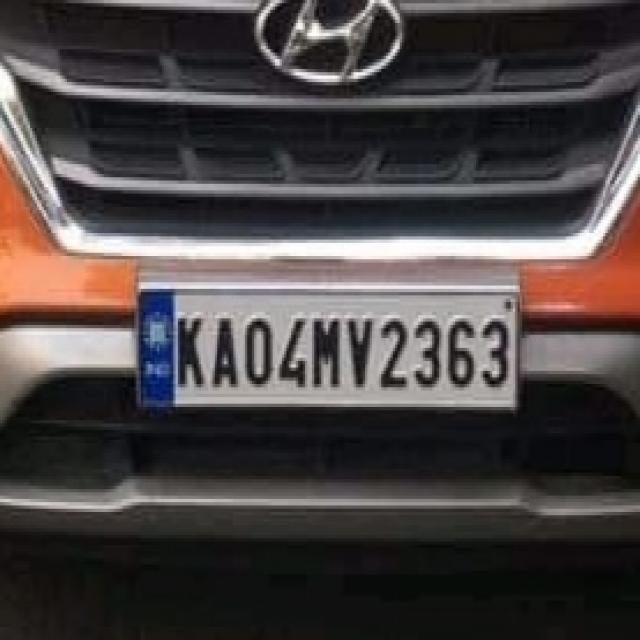0: (242, 312, 275, 388)
3: (412, 317, 445, 392), (480, 316, 510, 392)
4: (278, 314, 306, 391)
6: (448, 317, 478, 394)
A: (209, 308, 242, 392)
K: (174, 308, 207, 394)
M: (310, 308, 342, 394)
V: (344, 307, 376, 394)
